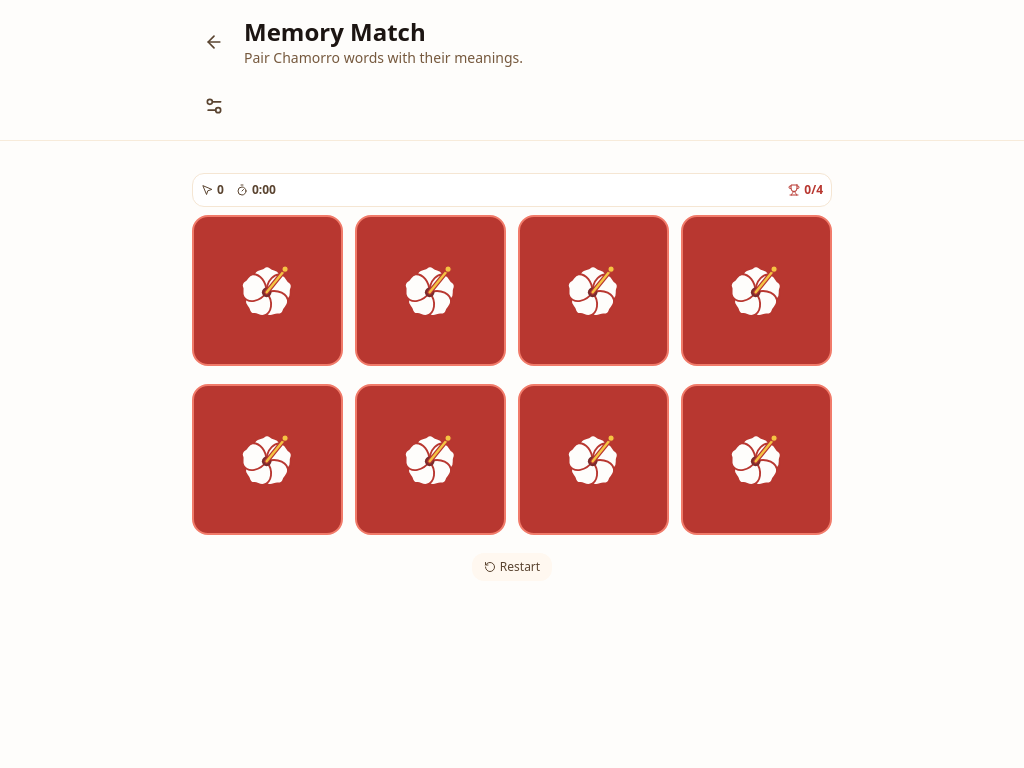
contextual learning game navigation › memory guards its topic exit and returns to /learning/greetings when confirmed
What coordinates should you click on to do the following:
click the 1st button named "Reveal memory card"
I would click on:
 (268, 290)
Its box is 192,215 -> 343,366.
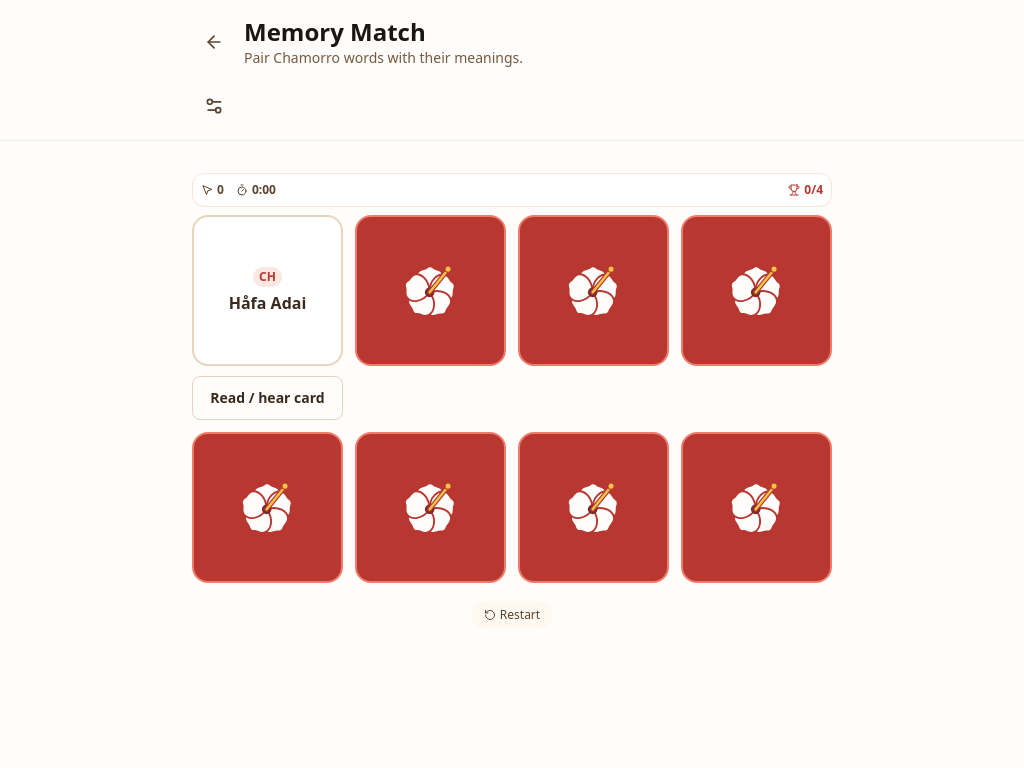
What coordinates should you click on to do the following:
click the 1st button named "Reveal memory card"
I would click on:
 (430, 290)
Its box is 355,215 -> 506,366.
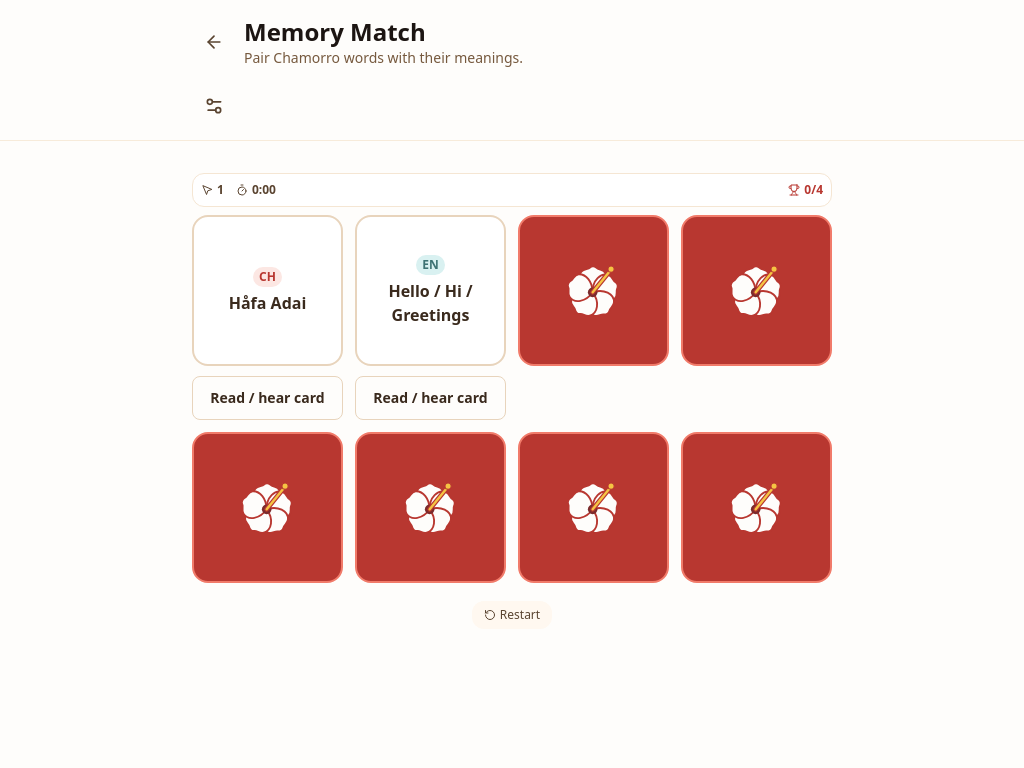
What coordinates should you click on to do the following:
click the button named "Back to topic"
I would click on:
 (214, 42)
Its box is 192,20 -> 236,64.
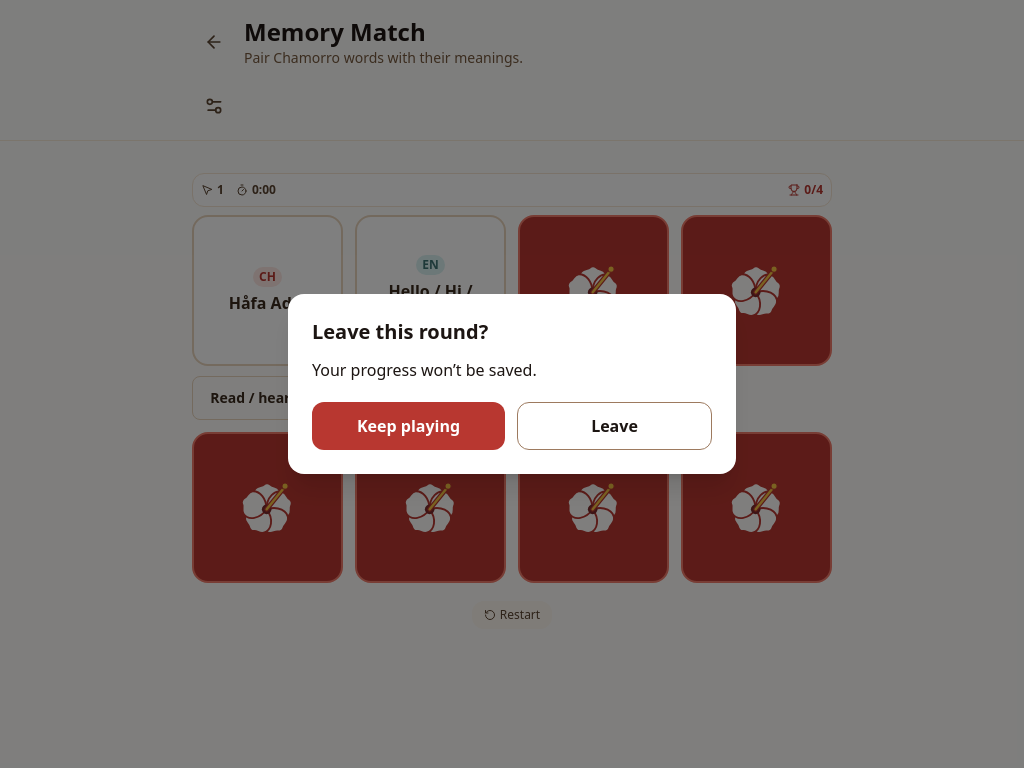
Expected: the dialog shows "Leave this round?", 312,318 -> 488,345
What coordinates should you click on to do the following:
click the button "Keep playing"
I would click on:
 (408, 426)
Its box is 312,402 -> 505,450.
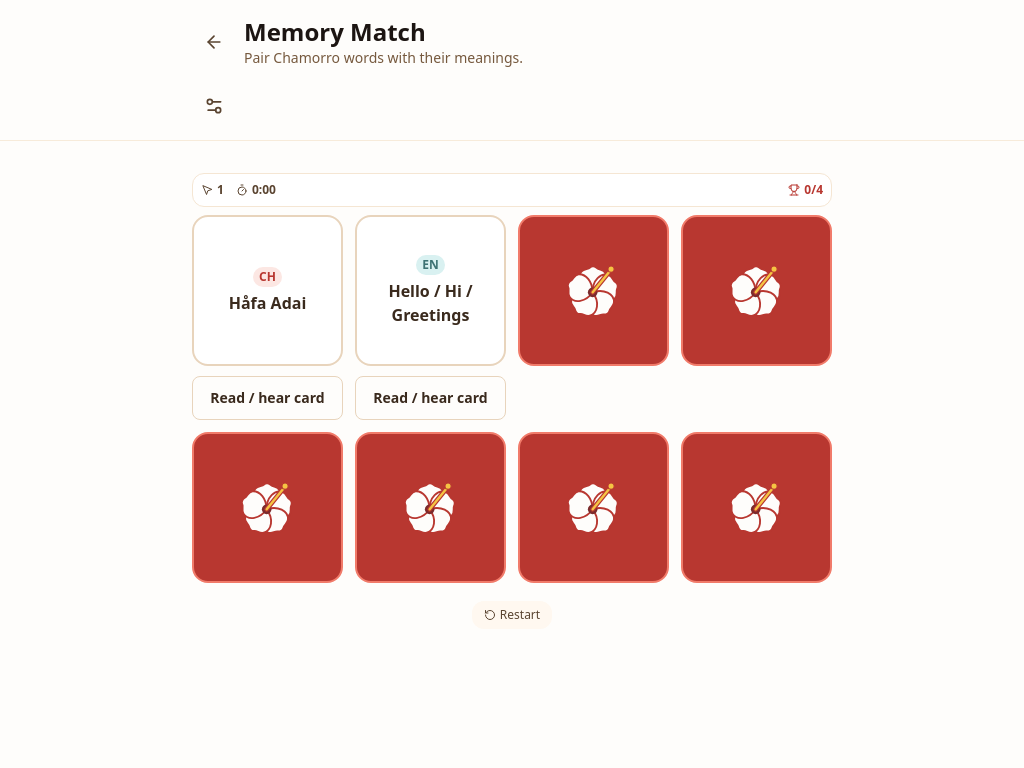
What coordinates should you click on to do the following:
click the button named "Back to topic"
I would click on:
 (214, 42)
Its box is 192,20 -> 236,64.
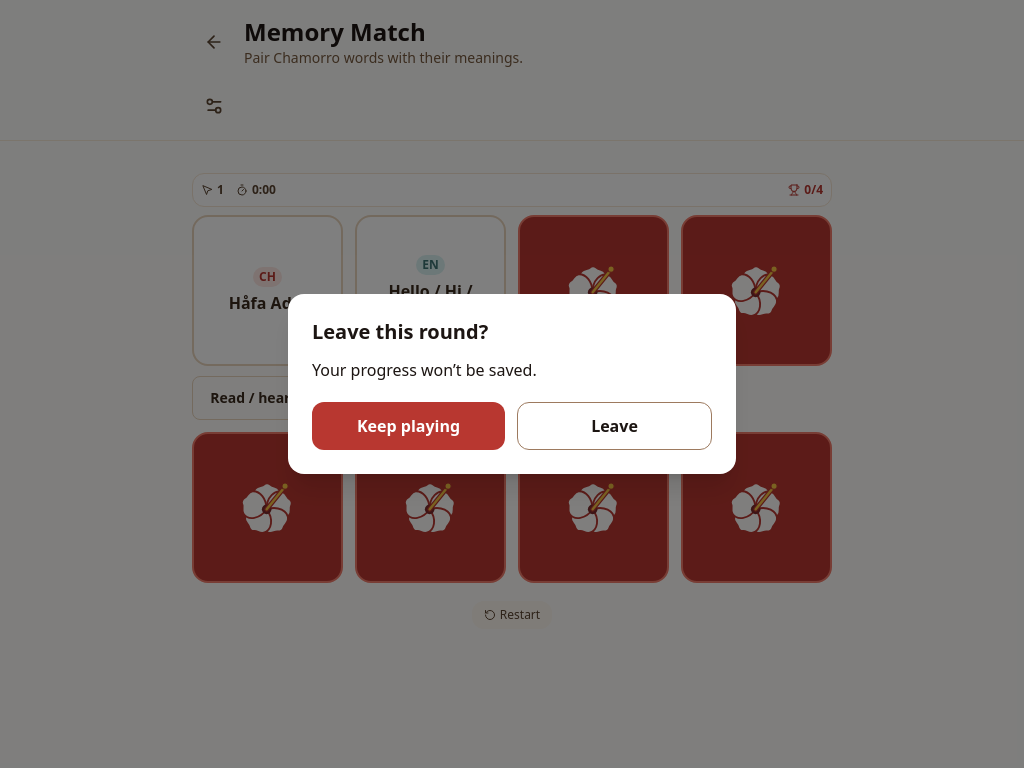
What coordinates should you click on to do the following:
click the button "Leave"
I would click on:
 (614, 426)
Its box is 517,402 -> 712,450.
(page scrolled)
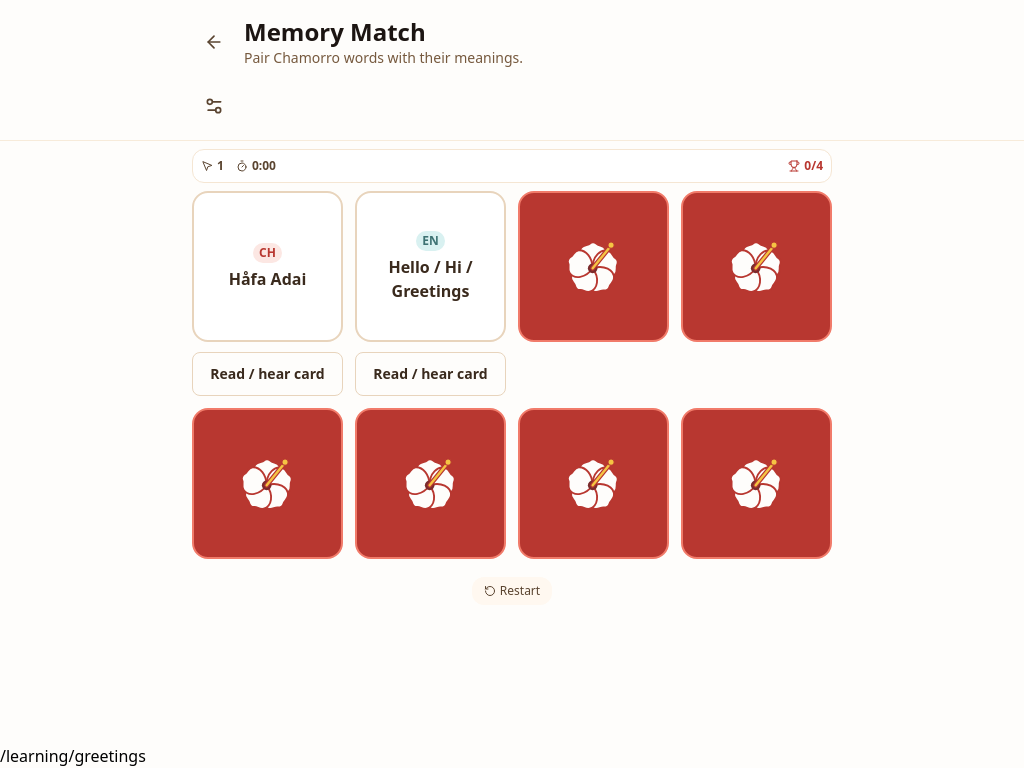
Expected: the text with test id "current-location" reads "/learning/greetings", 0,745 -> 146,767
